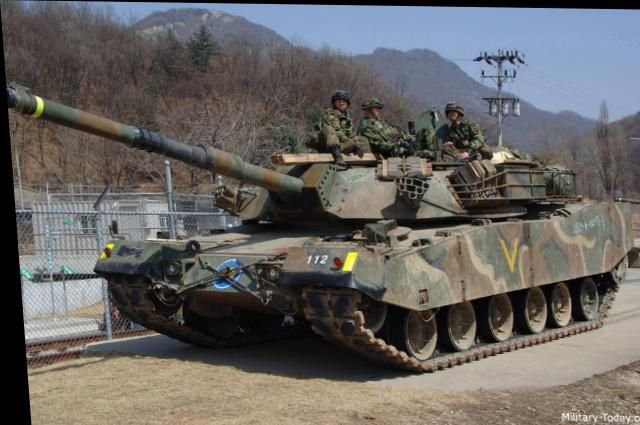other: (290, 75, 361, 154), (434, 92, 488, 154), (356, 90, 405, 140)
tank: (85, 142, 640, 374)
